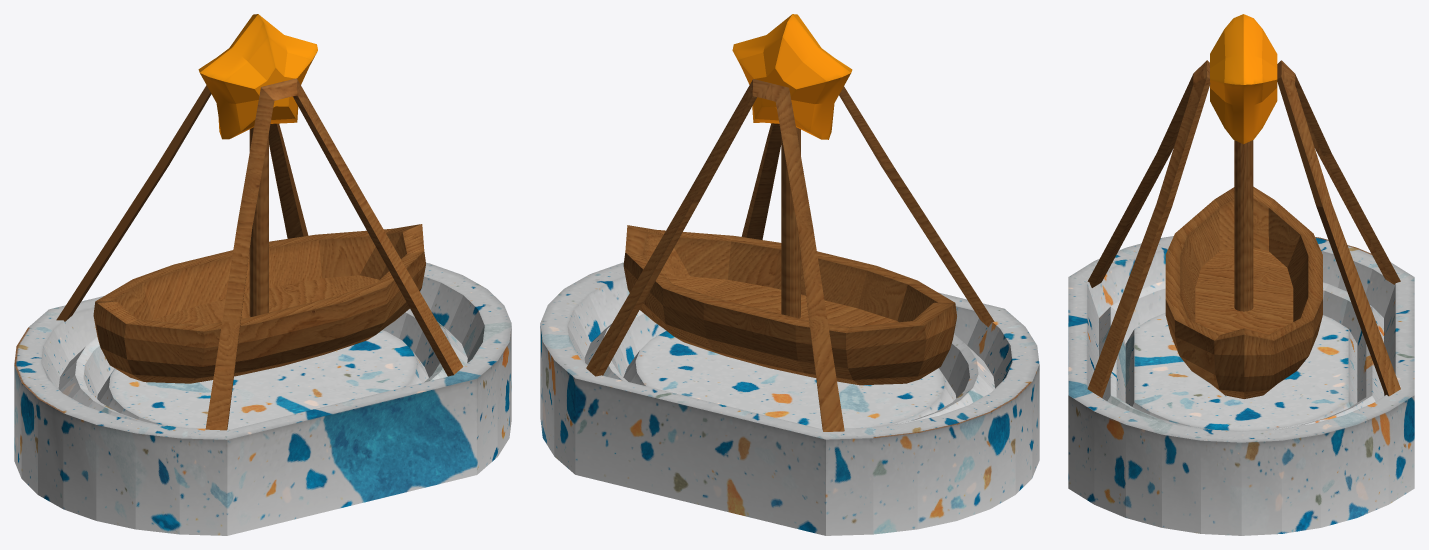
The model's file is Boat_Deco.fbx.
3 views of the same model, side by side, from view 1: azimuth 30°, elevation 25°; view 2: azimuth 150°, elevation 25°; view 3: azimuth 270°, elevation 25° (orthographic). The views are drawn at different scales.
Visible parts, largest first — view 1: Boat_Base, MainBoat; view 2: Boat_Base, MainBoat; view 3: Boat_Base, MainBoat.
Part boxes in pixels (box(x1,y1,x2,y2)): Boat_Base: box(14, 78, 511, 535); MainBoat: box(93, 14, 425, 383); Boat_Base: box(540, 79, 1039, 535); MainBoat: box(623, 14, 956, 385); Boat_Base: box(1068, 60, 1414, 535); MainBoat: box(1165, 14, 1322, 398).
Size of the model in its own units: 404 by 366 by 277.
